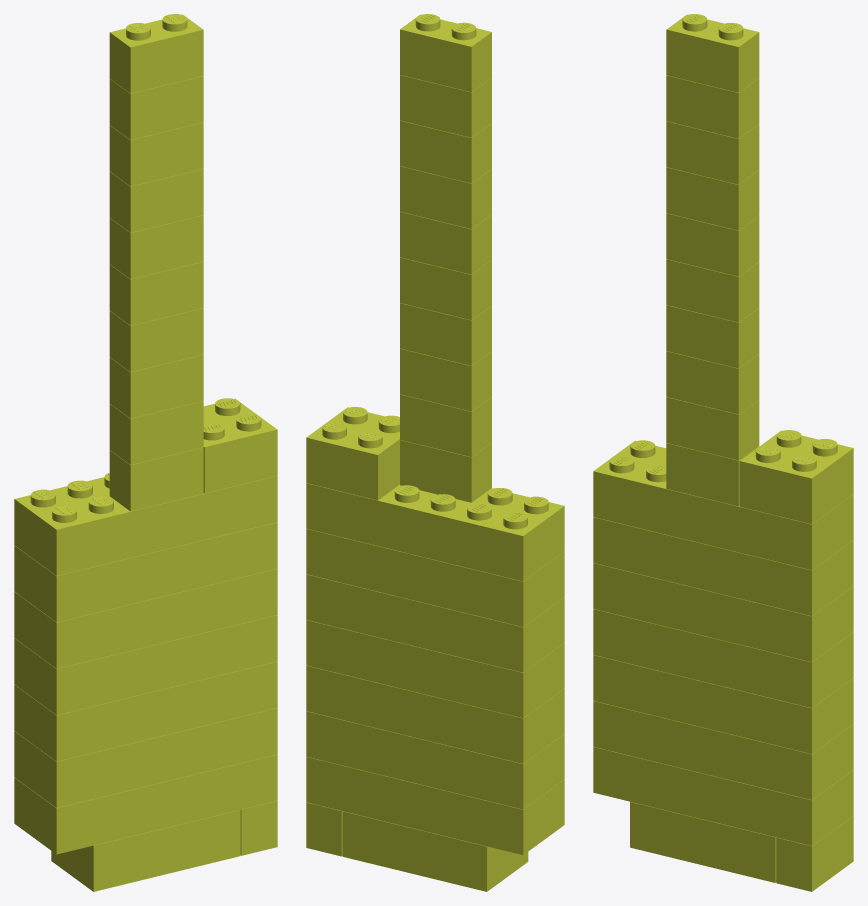
The model's file is brickgpt_cf206c2c_1_a_classical_guitar_seed8.glb.
3 renders of one model, left to right at view 1: azimuth 30°, elevation 25°; view 2: azimuth 150°, elevation 25°; view 3: azimuth 330°, elevation 25°, orthographic.
Parts seen in each view (by area): view 1: 00009_2456.DAT, 00004_2456.DAT, 00008_2456.DAT, 00003_2456.DAT, 00006_2456.DAT, 00007_2456.DAT, 00005_2456.DAT, 00002_3001.DAT, 00020_3004.DAT, 00010_3003.DAT, 00011_3004.DAT, 00013_3004.DAT (+8 smaller); view 2: 00009_2456.DAT, 00004_2456.DAT, 00003_2456.DAT, 00005_2456.DAT, 00006_2456.DAT, 00007_2456.DAT, 00008_2456.DAT, 00002_3001.DAT, 00010_3003.DAT, 00020_3004.DAT, 00018_3004.DAT, 00015_3004.DAT (+8 smaller); view 3: 00009_2456.DAT, 00004_2456.DAT, 00005_2456.DAT, 00008_2456.DAT, 00003_2456.DAT, 00006_2456.DAT, 00007_2456.DAT, 00010_3003.DAT, 00002_3001.DAT, 00020_3004.DAT, 00016_3004.DAT, 00015_3004.DAT (+8 smaller).
Boxes of the visible parts, box(x1,y1,x2,y2) form: 00009_2456.DAT: box(14, 473, 277, 575); 00004_2456.DAT: box(14, 708, 277, 807); 00008_2456.DAT: box(14, 522, 277, 622); 00003_2456.DAT: box(14, 754, 277, 854); 00006_2456.DAT: box(14, 615, 277, 715); 00007_2456.DAT: box(14, 568, 277, 668); 00005_2456.DAT: box(14, 661, 277, 761); 00002_3001.DAT: box(51, 810, 240, 891); 00020_3004.DAT: box(109, 14, 203, 93); 00010_3003.DAT: box(203, 398, 277, 493); 00011_3004.DAT: box(109, 447, 203, 511); 00013_3004.DAT: box(109, 354, 203, 418); 00009_2456.DAT: box(306, 483, 564, 581); 00004_2456.DAT: box(306, 711, 564, 809); 00003_2456.DAT: box(306, 756, 564, 854); 00005_2456.DAT: box(306, 665, 564, 763); 00006_2456.DAT: box(306, 620, 564, 718); 00007_2456.DAT: box(306, 574, 564, 672); 00008_2456.DAT: box(306, 528, 564, 626); 00002_3001.DAT: box(342, 811, 528, 891); 00010_3003.DAT: box(306, 407, 399, 500); 00020_3004.DAT: box(400, 14, 491, 92); 00018_3004.DAT: box(400, 120, 491, 183); 00015_3004.DAT: box(400, 257, 491, 320); 00009_2456.DAT: box(593, 440, 853, 570); 00004_2456.DAT: box(593, 701, 853, 799); 00005_2456.DAT: box(593, 655, 853, 753); 00008_2456.DAT: box(593, 517, 853, 615); 00003_2456.DAT: box(593, 747, 853, 845); 00006_2456.DAT: box(593, 609, 853, 707); 00007_2456.DAT: box(593, 563, 853, 661); 00010_3003.DAT: box(739, 430, 853, 524); 00002_3001.DAT: box(630, 801, 776, 882); 00020_3004.DAT: box(666, 14, 759, 92); 00016_3004.DAT: box(666, 213, 759, 276); 00015_3004.DAT: box(666, 259, 759, 322).
Size of the model in its own units: 0.0478 by 0.1743 by 0.0158.
